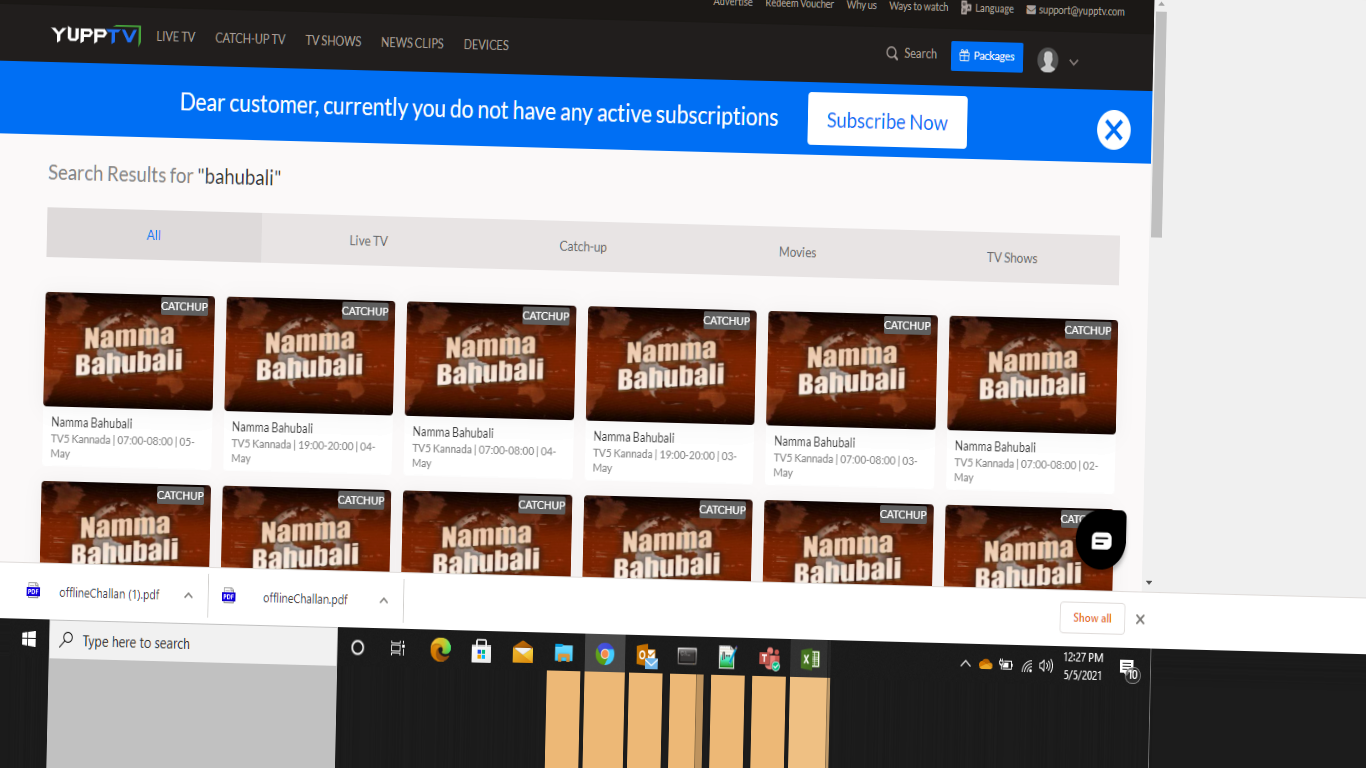profileicon: (1033, 34, 1096, 83)
resultsfound: (27, 140, 309, 201)
searchicon: (881, 41, 952, 74)
